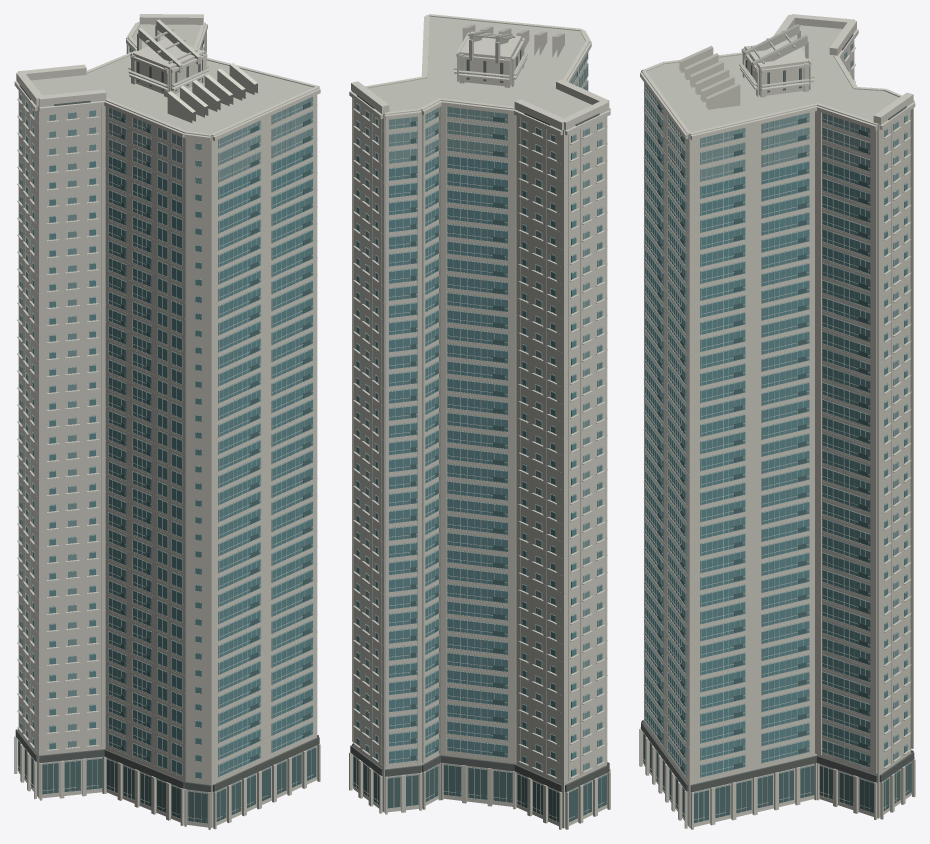
The model's file is bespoke-mokdong-hyperion-2-204.glb.
3 views of the same model, side by side, from view 1: azimuth 30°, elevation 25°; view 2: azimuth 150°, elevation 25°; view 3: azimuth 270°, elevation 25° (orthographic).
Visible parts, largest first — view 1: 204_sourceplate_stone, 204_face_specific_windows003_1, 204_face_specific_windows003_3, 204_face_specific_windows003_2, 204_face_specific_windows003, 204_crown_sloping_blades_and_stone_gallery003, 204_face_specific_windows003_6, 204_crown_sloping_blades_and_stone_gallery003_1, 204_face_specific_windows003_5, 204_face_specific_windows003_4; view 2: 204_sourceplate_stone, 204_face_specific_windows003_1, 204_face_specific_windows003, 204_face_specific_windows003_3, 204_crown_sloping_blades_and_stone_gallery003_1, 204_face_specific_windows003_6, 204_face_specific_windows003_2, 204_face_specific_windows003_5, 204_crown_sloping_blades_and_stone_gallery003, 204_face_specific_windows003_4; view 3: 204_face_specific_windows003_1, 204_sourceplate_stone, 204_face_specific_windows003_3, 204_face_specific_windows003, 204_face_specific_windows003_2, 204_crown_sloping_blades_and_stone_gallery003_1, 204_crown_sloping_blades_and_stone_gallery003, 204_face_specific_windows003_6, 204_face_specific_windows003_5, 204_face_specific_windows003_4.
Part boxes in pixels (x1,y1,x2,y2): 204_sourceplate_stone: (18, 46, 317, 827); 204_face_specific_windows003_1: (20, 144, 312, 778); 204_face_specific_windows003_3: (17, 39, 316, 823); 204_face_specific_windows003_2: (18, 40, 316, 823); 204_face_specific_windows003: (14, 23, 320, 829); 204_crown_sloping_blades_and_stone_gallery003: (16, 14, 318, 136); 204_face_specific_windows003_6: (20, 46, 312, 747); 204_crown_sloping_blades_and_stone_gallery003_1: (31, 19, 313, 136); 204_face_specific_windows003_5: (18, 48, 317, 781); 204_face_specific_windows003_4: (15, 729, 319, 792); 204_sourceplate_stone: (353, 61, 607, 828); 204_face_specific_windows003_1: (356, 154, 601, 776); 204_face_specific_windows003: (349, 16, 610, 829); 204_face_specific_windows003_3: (352, 52, 606, 822); 204_crown_sloping_blades_and_stone_gallery003_1: (368, 16, 591, 130); 204_face_specific_windows003_6: (356, 53, 601, 770); 204_face_specific_windows003_2: (353, 71, 606, 822); 204_face_specific_windows003_5: (353, 64, 607, 781); 204_crown_sloping_blades_and_stone_gallery003: (351, 14, 609, 130); 204_face_specific_windows003_4: (350, 743, 609, 792); 204_face_specific_windows003_1: (645, 129, 907, 777); 204_sourceplate_stone: (644, 40, 911, 827); 204_face_specific_windows003_3: (643, 42, 911, 823); 204_face_specific_windows003: (639, 29, 915, 829); 204_face_specific_windows003_2: (643, 104, 911, 823); 204_crown_sloping_blades_and_stone_gallery003_1: (646, 23, 899, 135); 204_crown_sloping_blades_and_stone_gallery003: (641, 14, 913, 135); 204_face_specific_windows003_6: (645, 42, 907, 760); 204_face_specific_windows003_5: (643, 40, 911, 781); 204_face_specific_windows003_4: (641, 720, 914, 792).
Size of the model in its own units: 44.67 by 135 by 45.27.
